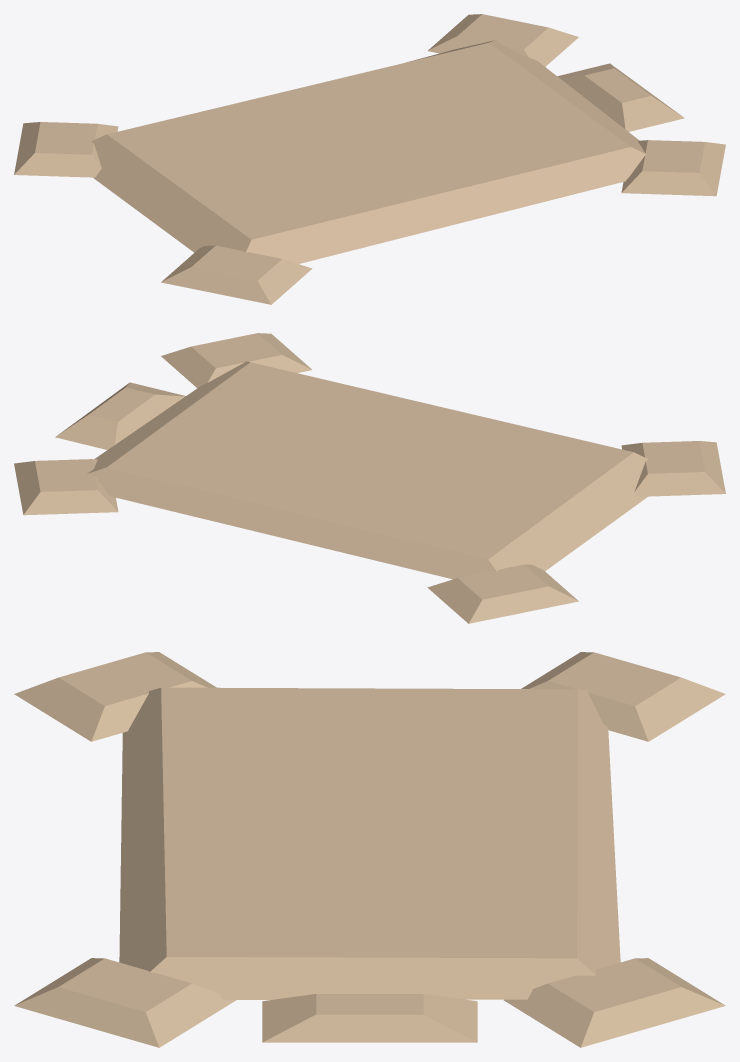
File: item_070_goat_hide_s.glb
3 views of the same model, one above another, from view 1: azimuth 30°, elevation 25°; view 2: azimuth 150°, elevation 25°; view 3: azimuth 270°, elevation 25° (orthographic). The views are drawn at different scales.
Visible parts, largest first — view 1: item_070_goat_hide_s; view 2: item_070_goat_hide_s; view 3: item_070_goat_hide_s.
Boxes of the visible parts, bbox=[...] form: item_070_goat_hide_s: bbox=[14, 14, 725, 304]; item_070_goat_hide_s: bbox=[14, 333, 725, 623]; item_070_goat_hide_s: bbox=[14, 652, 725, 1047].
Bounding box in the file's own units: 0.9572 × 0.0382 × 0.7276.
